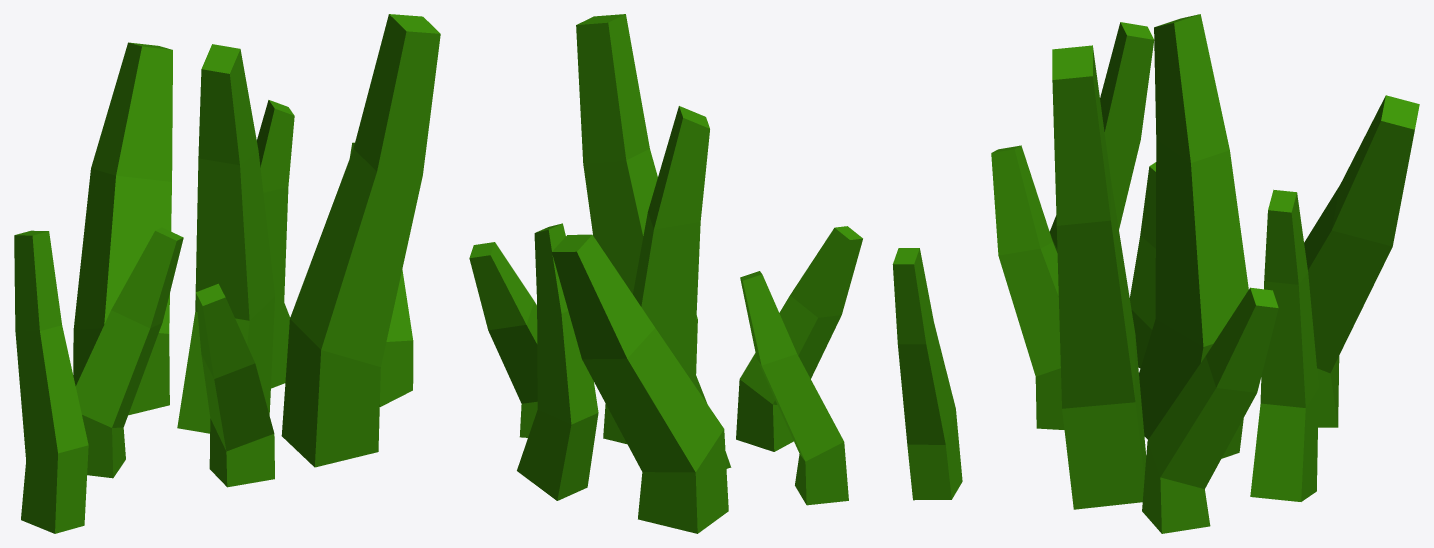
File: Bush 3.FBX
3 views of the same model, side by side, from view 1: azimuth 30°, elevation 25°; view 2: azimuth 150°, elevation 25°; view 3: azimuth 270°, elevation 25° (orthographic). The views are drawn at different scales.
Parts seen in each view (by area): view 1: Box001, 1, 2, Box002, 005, 004, 003, 006; view 2: 1, Box001, 2, 003, Box002, 005, 004, 006; view 3: Box001, 2, 1, 006, 003, 004, Box002, 005.
Part boxes in pixels (left/top/right/bottom): Box001: left=281, top=14, right=440, bottom=467; 1: left=73, top=42, right=172, bottom=415; 2: left=177, top=44, right=274, bottom=433; Box002: left=14, top=230, right=88, bottom=533; 005: left=75, top=227, right=183, bottom=478; 004: left=195, top=283, right=274, bottom=487; 003: left=256, top=100, right=294, bottom=388; 006: left=350, top=142, right=413, bottom=406; 1: left=552, top=234, right=728, bottom=533; Box001: left=576, top=14, right=697, bottom=443; 2: left=633, top=106, right=731, bottom=468; 003: left=517, top=223, right=598, bottom=500; Box002: left=892, top=248, right=962, bottom=500; 005: left=740, top=271, right=848, bottom=505; 004: left=736, top=226, right=862, bottom=451; 006: left=469, top=242, right=537, bottom=437; Box001: left=1052, top=45, right=1146, bottom=509; 2: left=1139, top=14, right=1248, bottom=458; 1: left=1304, top=95, right=1419, bottom=427; 006: left=1142, top=287, right=1278, bottom=533; 003: left=1250, top=189, right=1318, bottom=501; 004: left=991, top=145, right=1064, bottom=429; Box002: left=1049, top=22, right=1154, bottom=252; 005: left=1129, top=162, right=1155, bottom=368.
Size of the model in its own units: 13.51 by 12.63 by 10.33.
